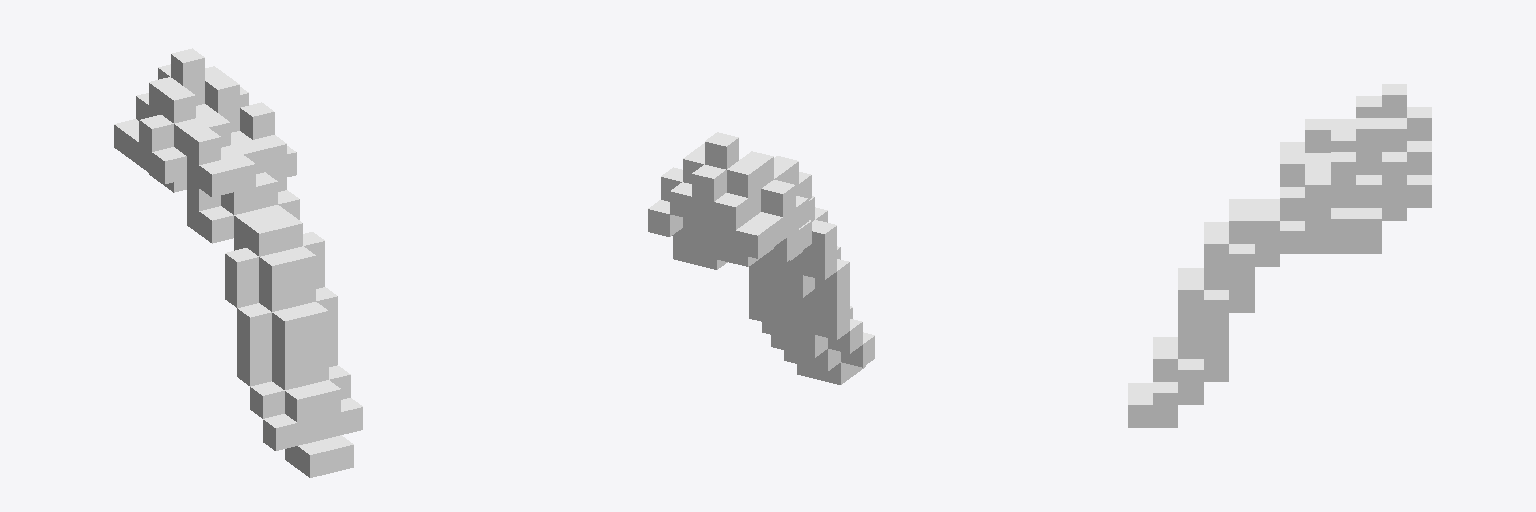
Rendered from cometas-1.obj.
3 renders of one model, left to right at view 1: azimuth 30°, elevation 25°; view 2: azimuth 150°, elevation 25°; view 3: azimuth 270°, elevation 25°, orthographic.
Parts seen in each view (by area): view 1: object 1; view 2: object 1; view 3: object 1.
Part boxes in pixels (x1,y1,x2,y2): object 1: (114,48,362,477); object 1: (648,132,874,384); object 1: (1128,84,1431,427).
Size of the model in its own units: 0.6 by 1.4 by 1.2.